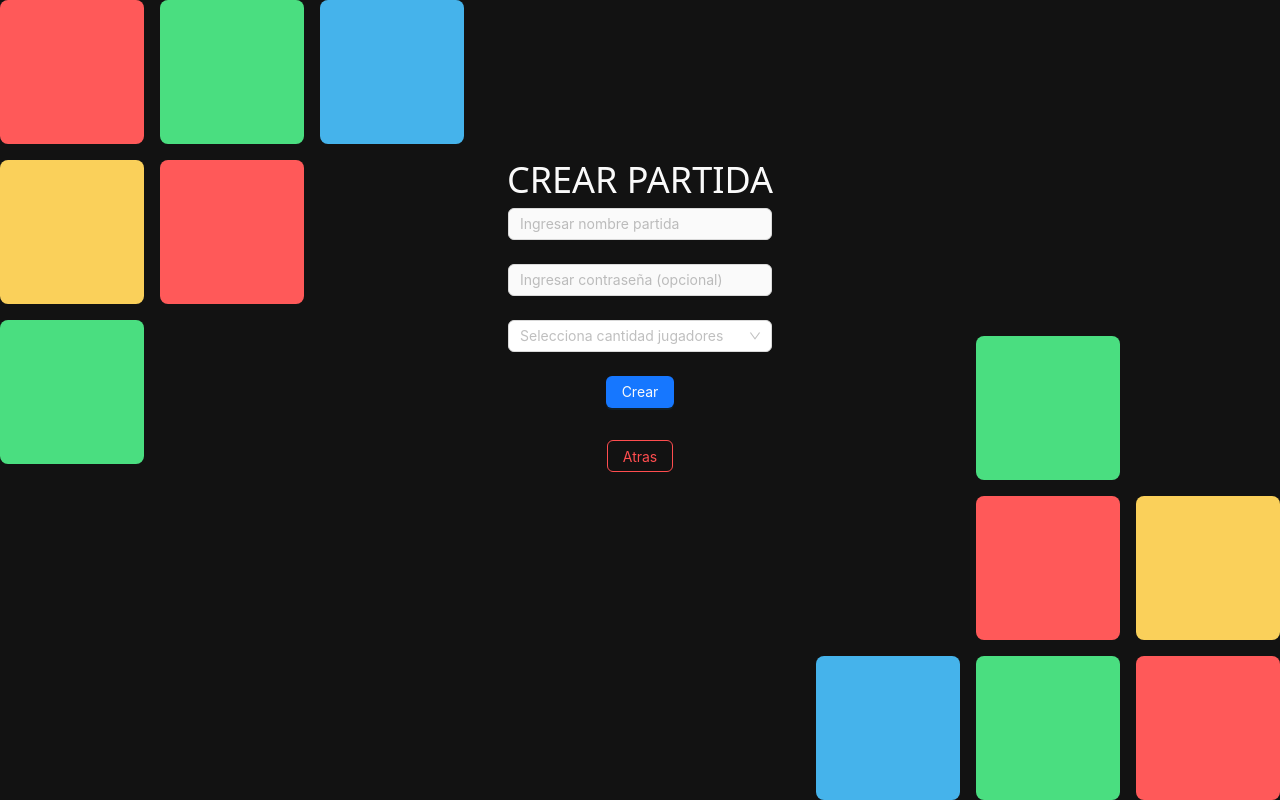
Scenario: CreateGame › should display error for invalid (non-alphanumeric) game name
Type "game name!" into the field with placeholder "Ingresar nombre partida" at coordinates (640, 224), box [508, 208, 772, 240]
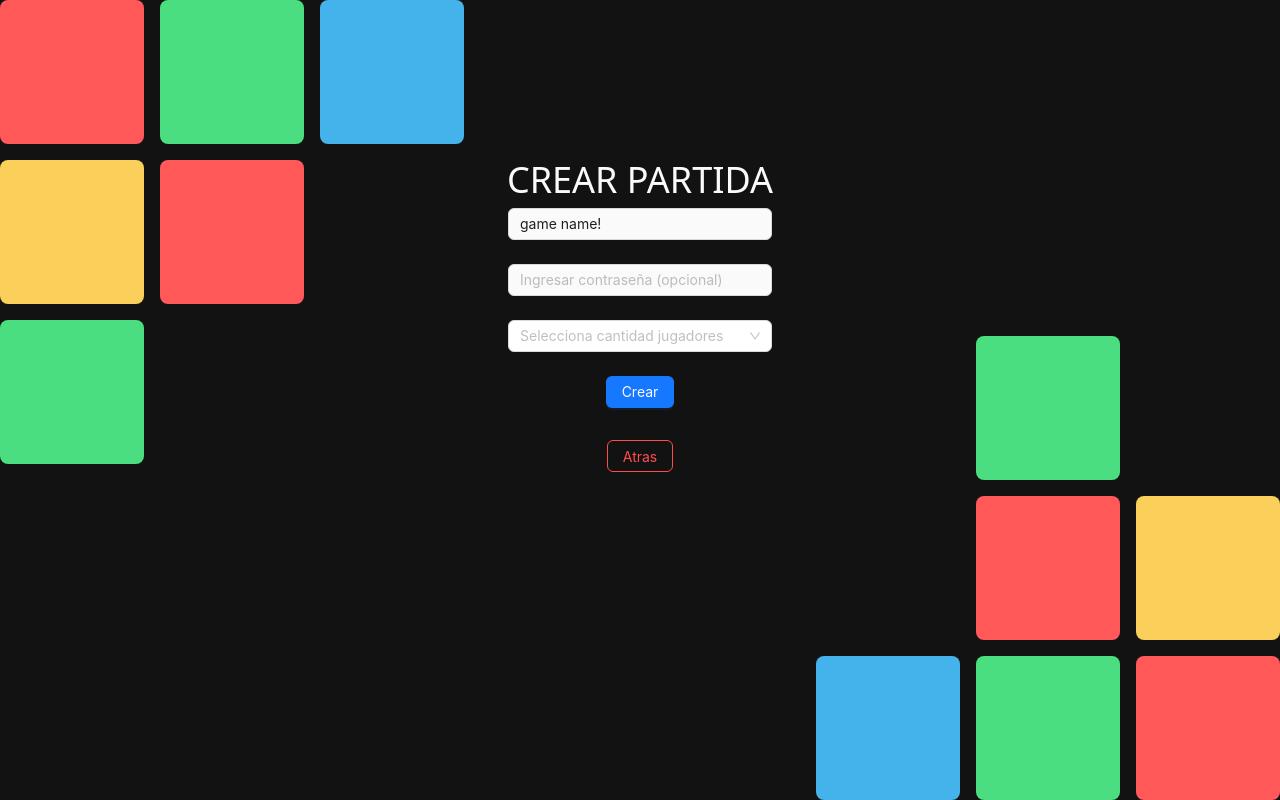
Click the button "Crear" at coordinates (640, 392), box [606, 376, 674, 408]
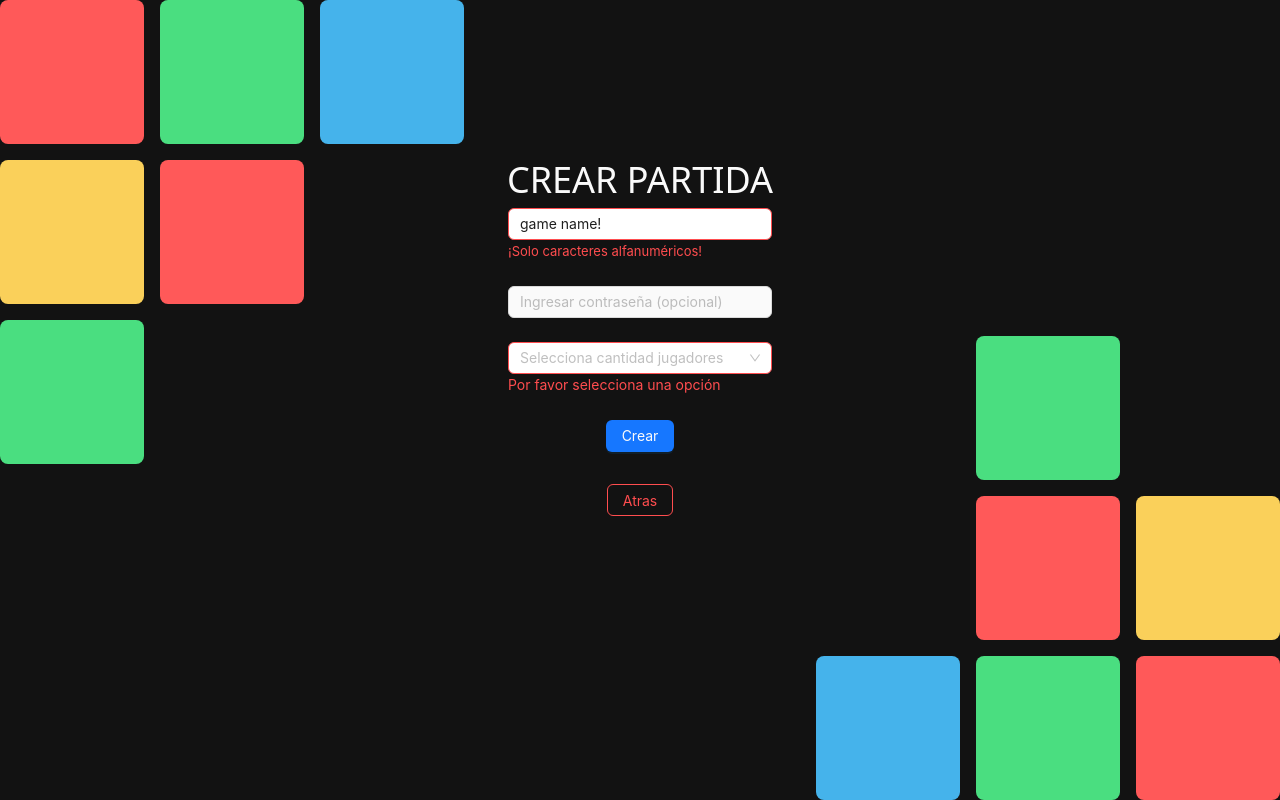
Expected: the text "¡Solo caracteres alfanuméricos!" is shown, [508, 243, 702, 259]
